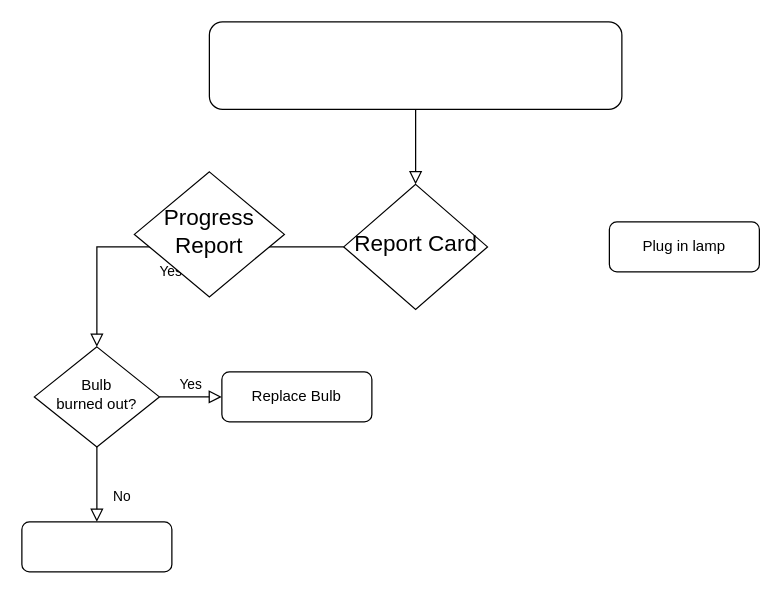
Image size: 781x594. Some labels were removed from this diagram. The shapes that lost their labels are listed below. From the top down, each one's box as (x1, y1, x2, y2) in pixels, then its label:
(208, 21, 622, 109): zs_Document
(21, 521, 172, 572): Repair Lamp
